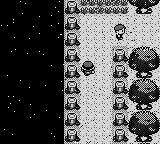captura: (80, 0, 128, 14)
main: (81, 61, 95, 76)
no-caminable: (128, 47, 160, 144), (64, 1, 81, 144), (112, 47, 128, 144), (130, 0, 160, 14)
npc: (114, 24, 126, 40)
